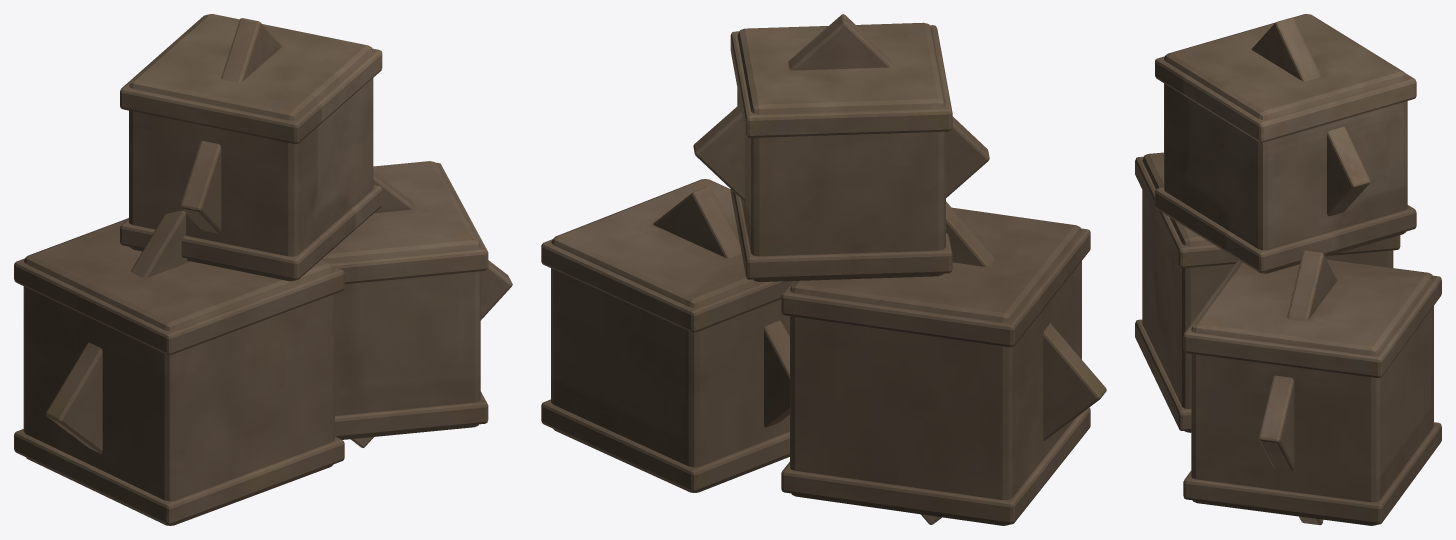
The model's file is prop-crates.glb.
3 views of the same model, side by side, from view 1: azimuth 30°, elevation 25°; view 2: azimuth 150°, elevation 25°; view 3: azimuth 270°, elevation 25° (orthographic). The views are drawn at different scales.
Parts seen in each view (by area): view 1: prop_crates; view 2: prop_crates; view 3: prop_crates.
Part boxes in pixels (x1,y1,x2,y2): prop_crates: (14, 14, 512, 525); prop_crates: (541, 14, 1106, 525); prop_crates: (1135, 14, 1441, 525).
Size of the model in its own units: 0.5907 by 0.5527 by 0.3416.
1 material, 1 textured.
